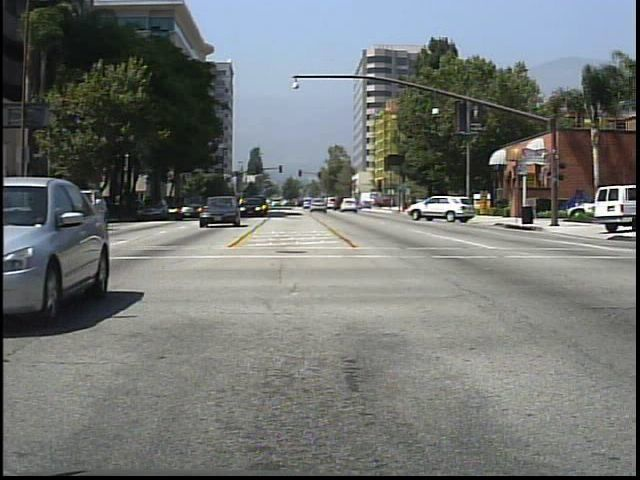person: (424, 188, 442, 215), (447, 188, 462, 220)
